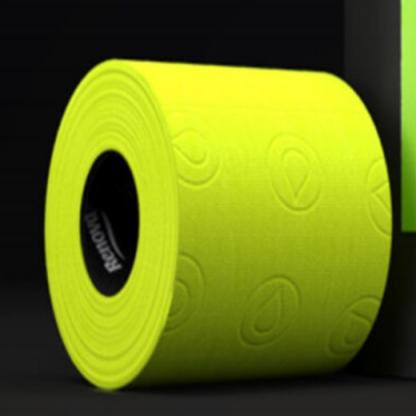tissue: (45, 48, 399, 415)
